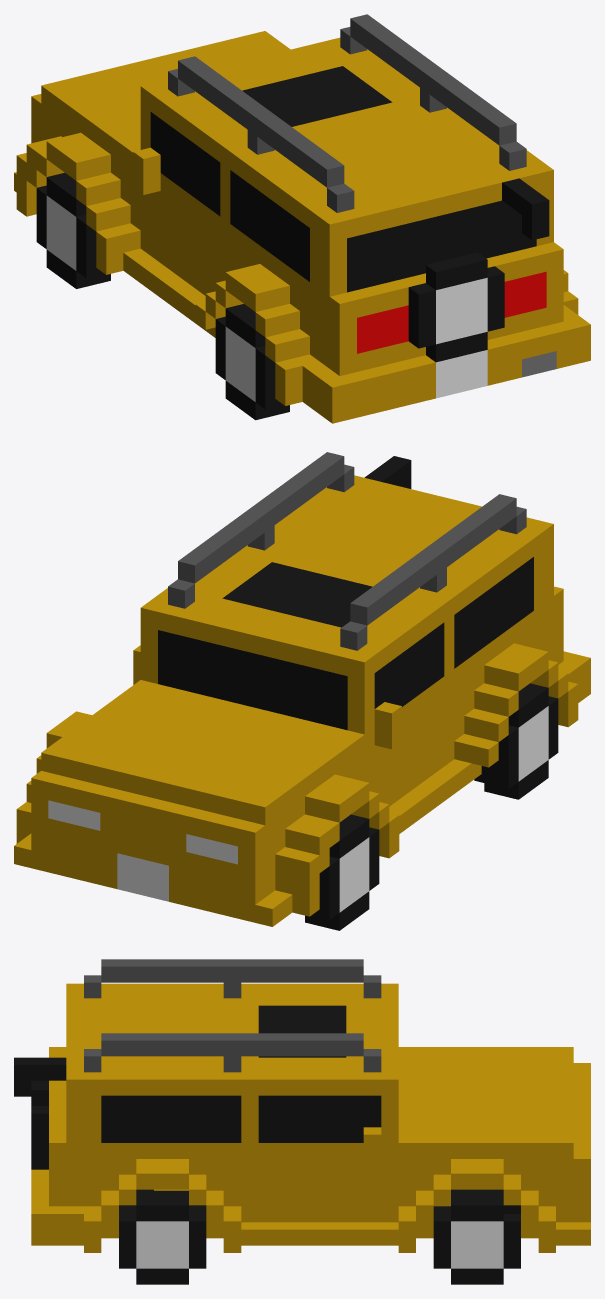
The model's file is car_15.glb.
The picture shows the model from 3 angles, top to bottom: view 1: azimuth 30°, elevation 25°; view 2: azimuth 150°, elevation 25°; view 3: azimuth 270°, elevation 25°; orthographic projection. The views are drawn at different scales.
Parts seen in each view (by area): view 1: ObjObject; view 2: ObjObject; view 3: ObjObject.
Boxes of the visible parts, left/top/right/bottom form: ObjObject: left=14, top=14, right=590, bottom=423; ObjObject: left=14, top=452, right=590, bottom=930; ObjObject: left=14, top=959, right=590, bottom=1284.
Size of the model in its own units: 1.7 by 1.4 by 3.3.
Materials: 1 (1 with a texture image).
